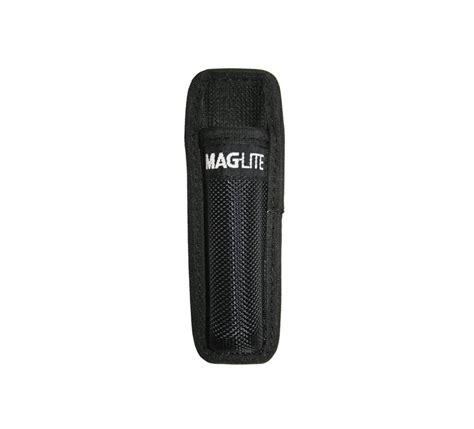nylon: (186, 68, 286, 364)
